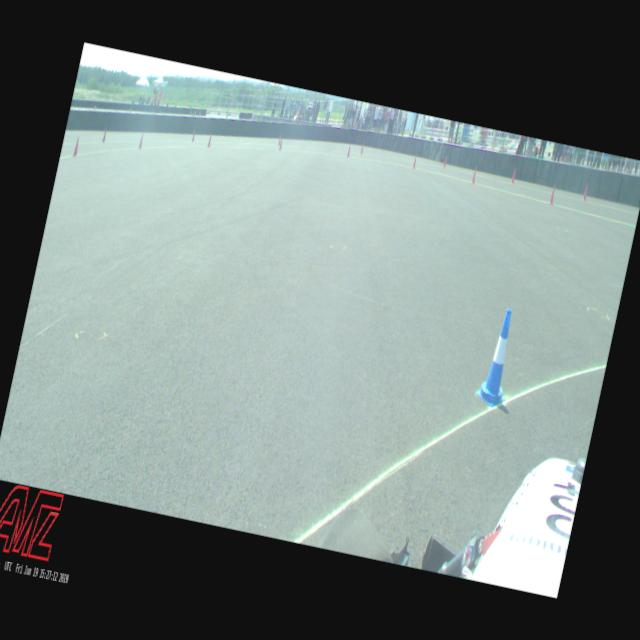blue_cone: (474, 305, 523, 408)
unknown_cone: (72, 136, 80, 156), (549, 184, 556, 204), (470, 168, 478, 184), (582, 182, 588, 202), (510, 168, 516, 184), (138, 133, 144, 149), (442, 154, 448, 168), (346, 144, 352, 157), (102, 127, 107, 142), (412, 155, 417, 168), (207, 134, 212, 147), (359, 142, 364, 154), (192, 128, 196, 141), (278, 134, 282, 146), (278, 138, 282, 150)
